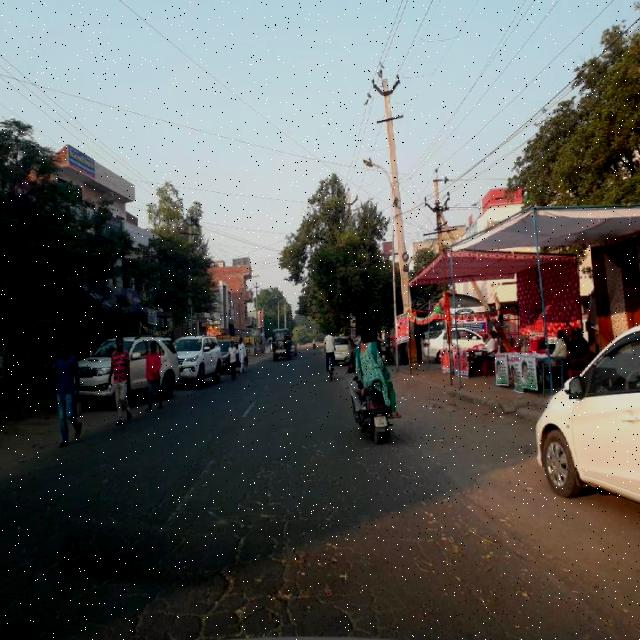D20: (136, 442, 366, 639)
D44: (159, 450, 224, 540)
